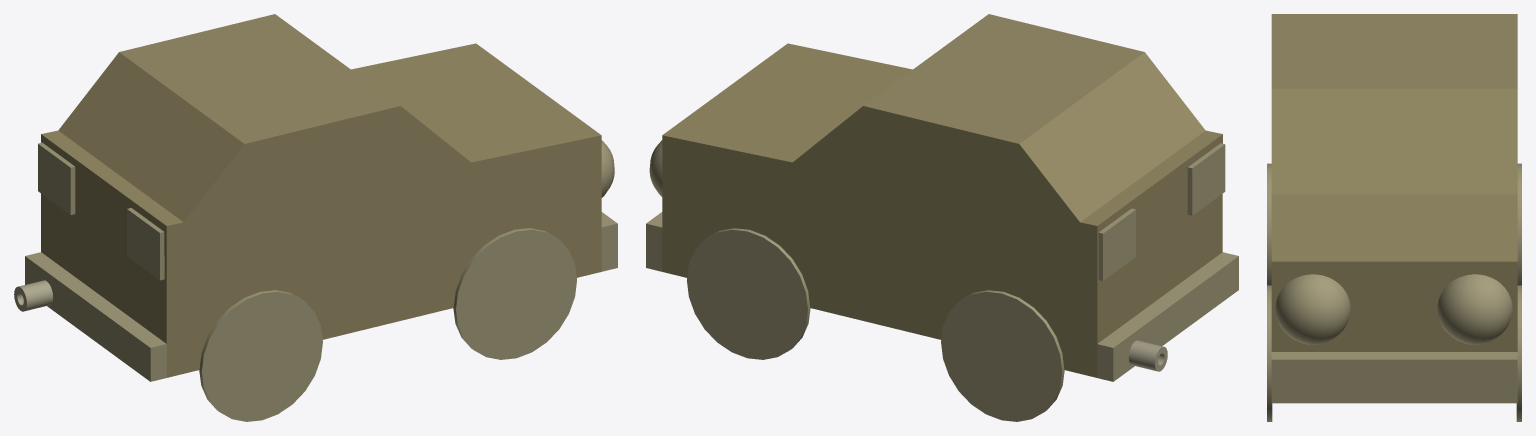
File: Car (2).fbx
3 renders of one model, left to right at view 1: azimuth 30°, elevation 25°; view 2: azimuth 150°, elevation 25°; view 3: azimuth 270°, elevation 25°, orthographic. The views are drawn at different scales.
Parts seen in each view (by area): view 1: Roof, Body, Hood, Wheel_2, Wheel_1, Back_Bumper, Right_Backlight, Left_Backlight, Exhaust, Front_Bumper, Right_Headlight; view 2: Body, Roof, Hood, Wheel_3, Wheel_4, Back_Bumper, Right_Backlight, Left_Backlight, Exhaust, Front_Bumper, Left_Headlight; view 3: Roof, Hood, Body, Front_Bumper, Left_Headlight, Right_Headlight, Wheel_3, Wheel_1, Wheel_2, Wheel_4.
Part boxes in pixels (x1,y1,x2,y2): Roof: (58,14,476,301); Body: (41,135,601,377); Hood: (41,43,600,256); Wheel_2: (199,290,322,421); Wheel_1: (453,228,576,359); Back_Bumper: (25,252,166,381); Right_Backlight: (127,208,164,280); Left_Backlight: (38,142,75,214); Exhaust: (14,280,53,311); Front_Bumper: (601,212,617,271); Right_Headlight: (601,140,614,197); Body: (662,135,1222,377); Roof: (792,14,1205,301); Hood: (662,43,1222,256); Wheel_3: (687,228,810,359); Wheel_4: (941,290,1064,421); Back_Bumper: (1097,252,1238,381); Right_Backlight: (1187,143,1225,215); Left_Backlight: (1098,208,1135,280); Exhaust: (1128,340,1167,371); Front_Bumper: (646,212,662,271); Left_Headlight: (649,140,662,196); Roof: (1271,14,1517,194); Hood: (1271,194,1517,261); Body: (1271,261,1517,351); Front_Bumper: (1271,352,1517,403); Left_Headlight: (1437,274,1512,344); Right_Headlight: (1275,274,1350,344); Wheel_3: (1516,285,1521,421); Wheel_1: (1267,285,1272,421); Wheel_2: (1267,163,1271,285); Wheel_4: (1517,163,1521,285).
Bounding box in the file's own units: 2.33 × 1.22 × 1.04.
